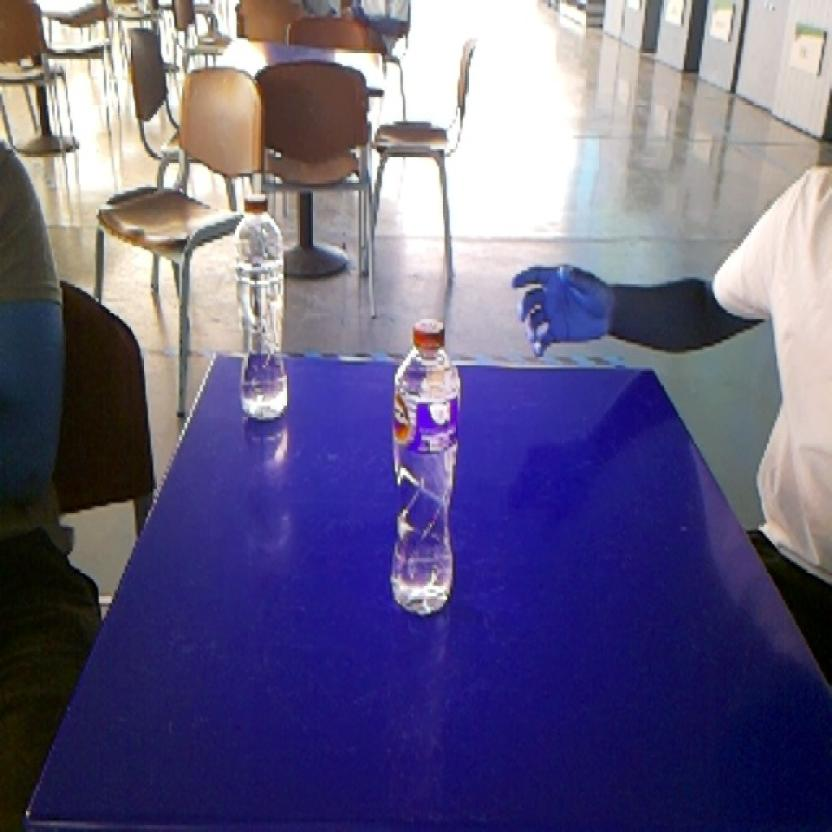good: (377, 310, 471, 626)
no_label: (221, 187, 298, 437)
